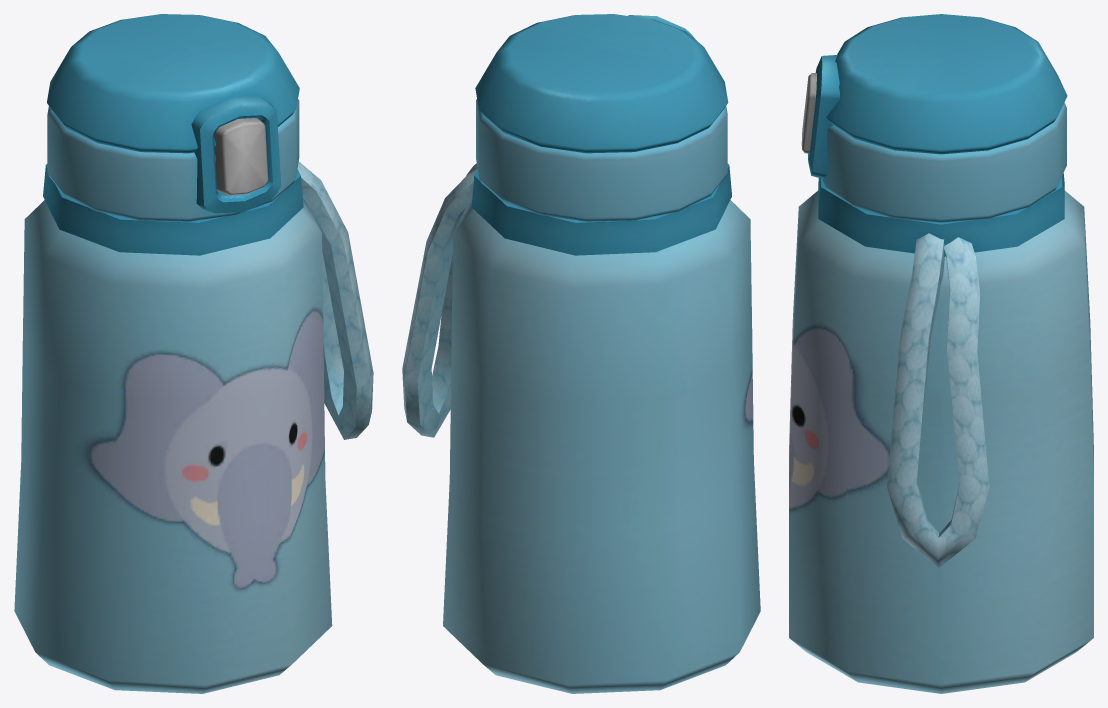
The model's file is 0-waterbottle_blue.fbx.
3 views of the same model, side by side, from view 1: azimuth 30°, elevation 25°; view 2: azimuth 150°, elevation 25°; view 3: azimuth 270°, elevation 25° (orthographic).
Visible parts, largest first — view 1: 0-waterbottle_blue; view 2: 0-waterbottle_blue; view 3: 0-waterbottle_blue.
Boxes of the visible parts, x1,y1,x2,y2 form: 0-waterbottle_blue: [14, 14, 373, 693]; 0-waterbottle_blue: [402, 14, 760, 693]; 0-waterbottle_blue: [789, 14, 1093, 693].
Size of the model in its own units: 54.26 by 93.87 by 44.06.
